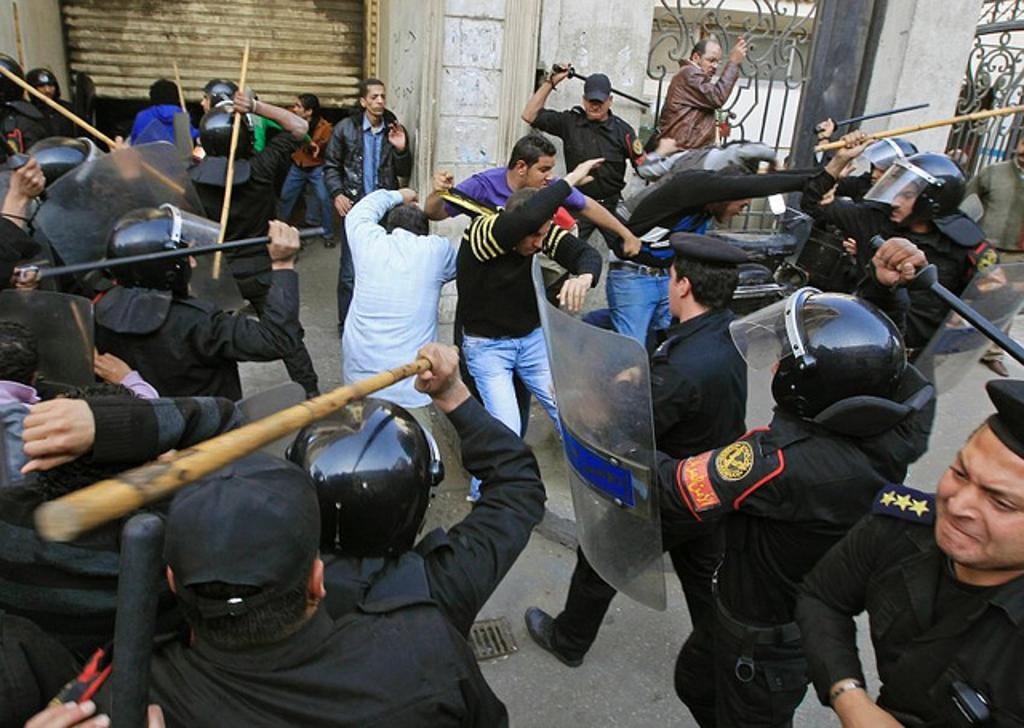face: (933, 421, 1024, 567), (770, 333, 810, 409), (169, 233, 200, 291), (666, 258, 693, 319), (718, 189, 755, 225), (888, 174, 913, 222), (519, 220, 550, 257), (530, 157, 559, 194), (584, 92, 610, 122), (870, 153, 892, 187), (705, 43, 723, 81), (367, 85, 387, 117), (35, 81, 57, 102), (291, 97, 307, 121), (199, 90, 214, 114)
